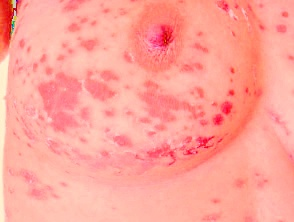SJS-TEN: (10, 0, 253, 185), (0, 153, 75, 217)
